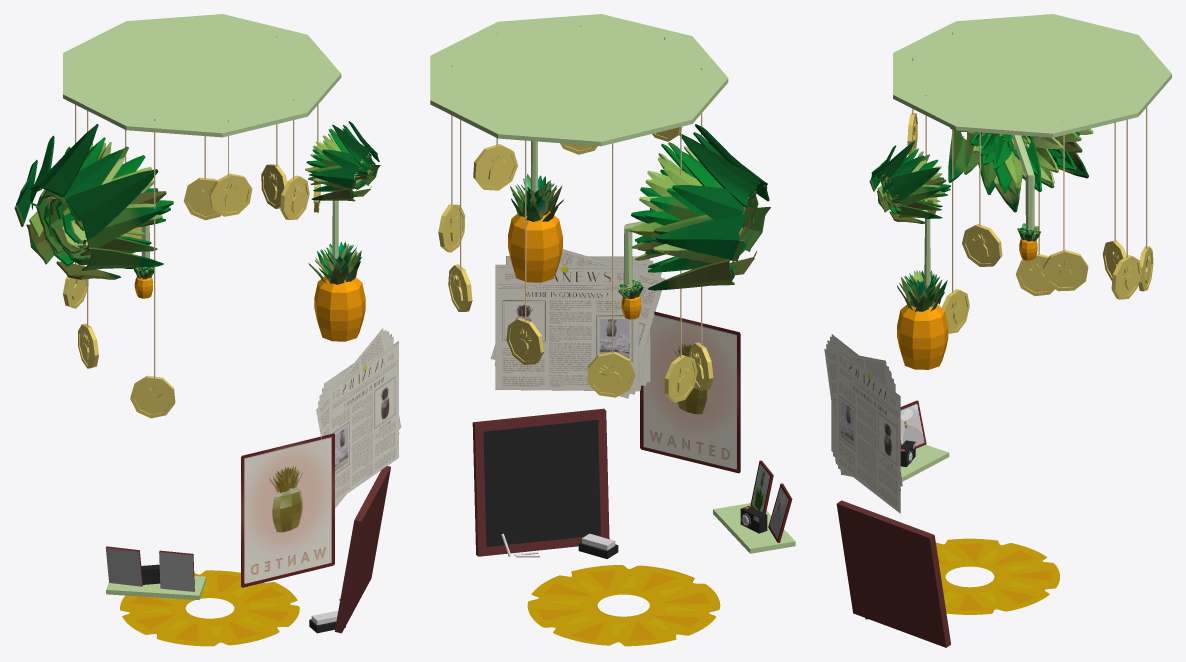
File: ananasDeco.glb
3 renders of one model, left to right at view 1: azimuth 30°, elevation 25°; view 2: azimuth 150°, elevation 25°; view 3: azimuth 270°, elevation 25°, orthographic. The views are drawn at different scales.
Visible parts, largest first — view 1: Cylinder.046, feuilles.007, Plane.005, Plane.006, Circle.001, ananasdore.005, feuilles.005, Cube.024, Cylinder.073, Cylinder.065, Cube.021, Cube.022 (+6 smaller); view 2: Cylinder.046, Cube.024, feuilles.007, Plane.006, Plane.005, Circle.001, ananasdore.005, Cylinder.071, Cube.020, Cylinder.067, Cylinder.070, Cylinder.072 (+7 smaller); view 3: Cylinder.046, Cube.024, Plane.006, feuilles.007, Circle.001, ananasdore.005, feuilles.005, Cylinder.068, Cylinder.067, Cylinder.072, Cylinder.069, Cube.022 (+4 smaller).
Part boxes in pixels (box(x1,y1,x2,y2)): Cylinder.046: box(63, 14, 341, 137); feuilles.007: box(14, 124, 173, 298); Plane.005: box(241, 433, 334, 587); Plane.006: box(316, 328, 401, 508); Circle.001: box(120, 570, 299, 646); ananasdore.005: box(308, 241, 365, 341); feuilles.005: box(305, 121, 380, 201); Cube.024: box(334, 466, 390, 633); Cylinder.073: box(130, 375, 175, 418); Cylinder.065: box(209, 173, 252, 216); Cube.021: box(159, 550, 194, 591); Cube.022: box(105, 546, 142, 586); Cylinder.046: box(430, 14, 728, 146); Cube.024: box(472, 408, 609, 556); feuilles.007: box(618, 124, 770, 319); Plane.006: box(490, 249, 665, 398); Plane.005: box(640, 311, 740, 473); Circle.001: box(527, 565, 720, 646); ananasdore.005: box(508, 174, 563, 282); Cylinder.071: box(587, 351, 635, 397); Cube.020: box(713, 503, 795, 553); Cylinder.067: box(473, 144, 517, 190); Cylinder.070: box(506, 318, 544, 364); Cylinder.072: box(664, 355, 697, 402); Cylinder.046: box(893, 14, 1171, 137); Cube.024: box(836, 500, 950, 647); Plane.006: box(824, 334, 902, 513); feuilles.007: box(948, 127, 1093, 260); Circle.001: box(936, 538, 1059, 614); ananasdore.005: box(897, 270, 948, 369); feuilles.005: box(869, 141, 950, 223); Cylinder.068: box(1043, 249, 1088, 291); Cylinder.067: box(962, 224, 1002, 266); Cylinder.072: box(1015, 253, 1054, 296); Cylinder.069: box(1111, 255, 1141, 299); Cube.022: box(900, 400, 926, 448).
Bounding box in the file's own units: 7.72 × 12.01 × 7.35.
6 materials, 5 textured.
